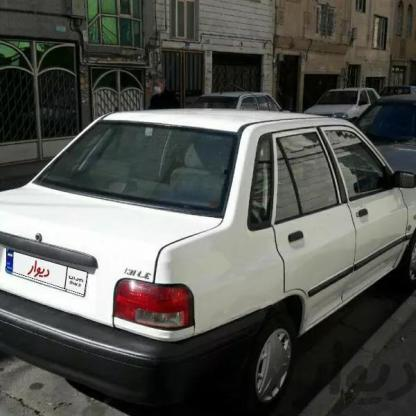Car: (0, 108, 416, 416), (311, 88, 386, 130), (196, 88, 290, 110)
